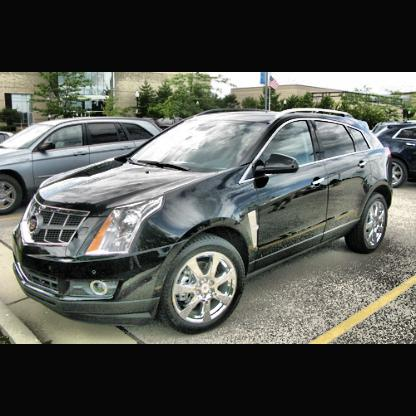Cadillac SRX SUV 2012: (13, 107, 395, 336)
